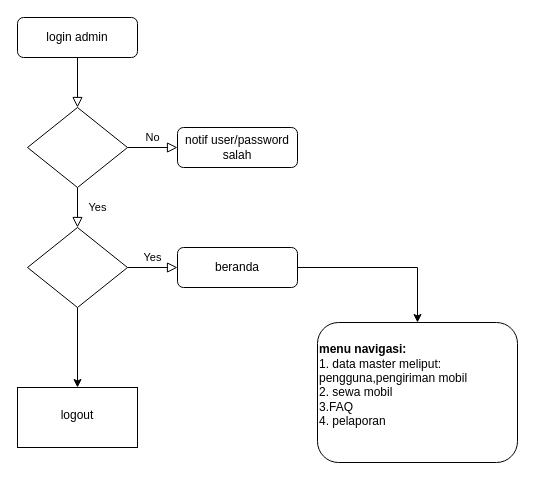
The diagram is 535 pixels wide and 480 high, and some of its shapes have lost their labels. Each missing label, with the centre of its shape:
gagal login: (77,147)
login berhasil: (77,267)
